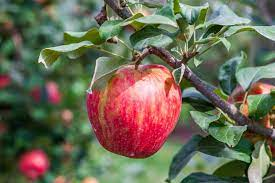apple: (86, 63, 183, 162)
